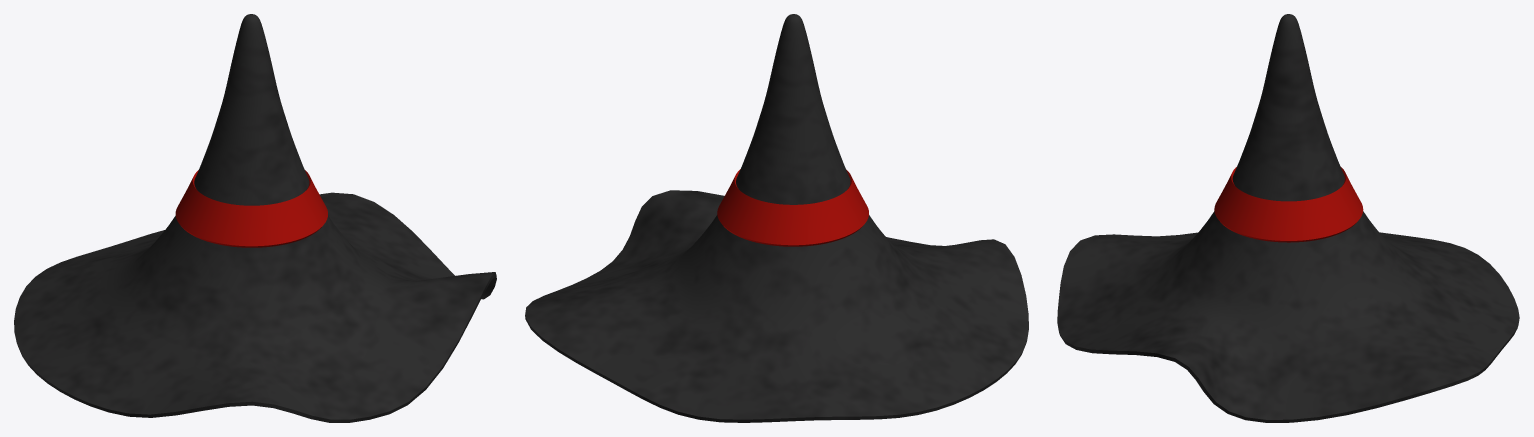
Rendered from MagicalHat.obj.
The picture shows the model from 3 angles, left to right: view 1: azimuth 30°, elevation 25°; view 2: azimuth 150°, elevation 25°; view 3: azimuth 270°, elevation 25°; orthographic projection. The views are drawn at different scales.
Visible parts, largest first — view 1: hat, ribbon; view 2: hat, ribbon; view 3: hat, ribbon.
Boxes of the visible parts, x1=… form: hat: x1=14, y1=14, x2=496, y2=422; ribbon: x1=175, y1=170, x2=327, y2=247; hat: x1=525, y1=14, x2=1028, y2=422; ribbon: x1=717, y1=169, x2=868, y2=246; hat: x1=1057, y1=14, x2=1519, y2=422; ribbon: x1=1214, y1=167, x2=1363, y2=242.
Size of the model in its own units: 23.25 by 17.19 by 23.14.
2 materials, 1 textured.
